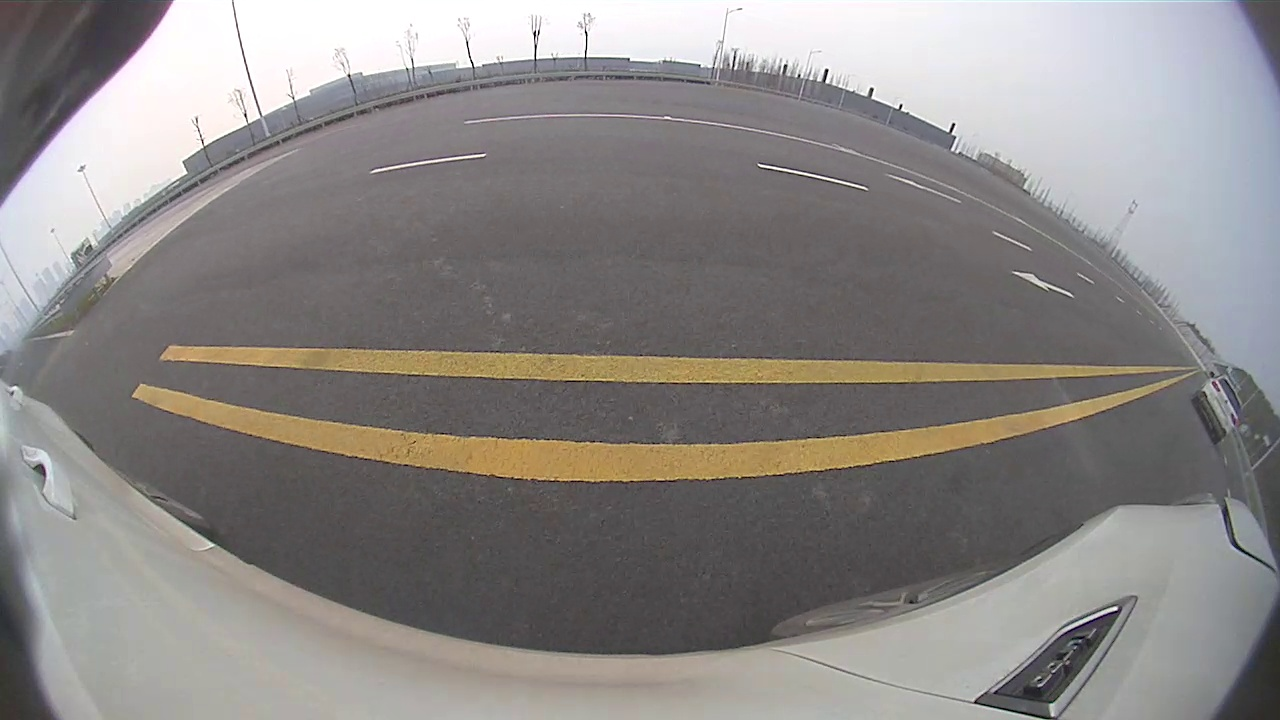car: (546, 134, 642, 214)
